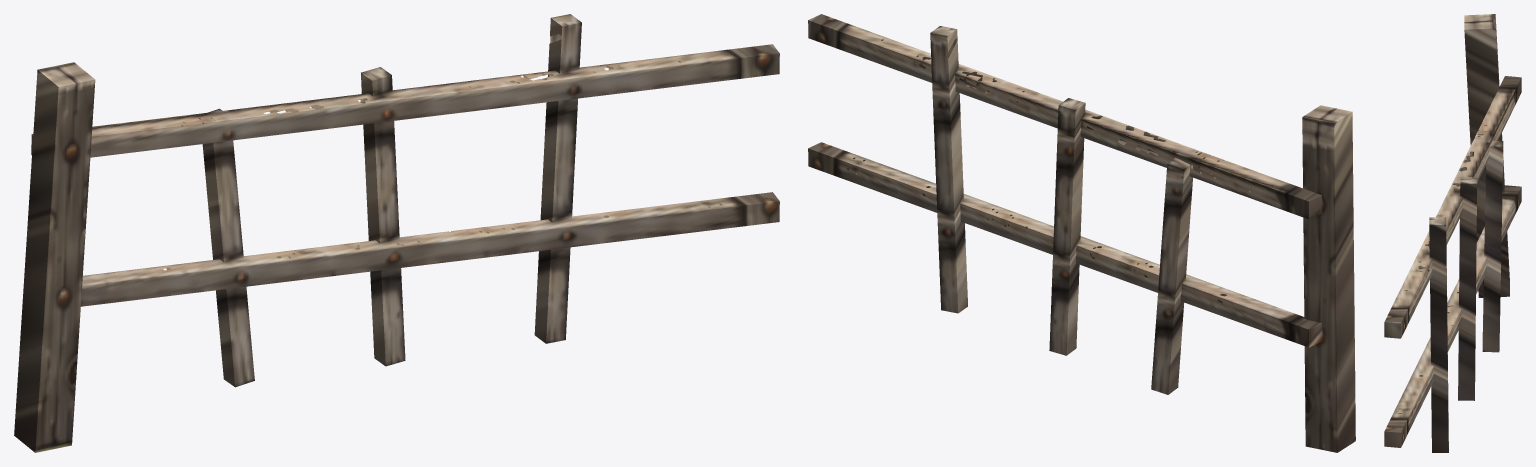
The model's file is fence_05.glb.
The picture shows the model from 3 angles, left to right: view 1: azimuth 30°, elevation 25°; view 2: azimuth 150°, elevation 25°; view 3: azimuth 270°, elevation 25°; orthographic projection. The views are drawn at different scales.
Visible parts, largest first — view 1: fence_05_game; view 2: fence_05_game; view 3: fence_05_game.
Part boxes in pixels (x1,y1,x2,y2): fence_05_game: (14,14,779,452); fence_05_game: (808,14,1355,452); fence_05_game: (1384,14,1521,452).
Size of the model in its own units: 2.42 by 1.26 by 0.5687.
1 material, 1 textured.
